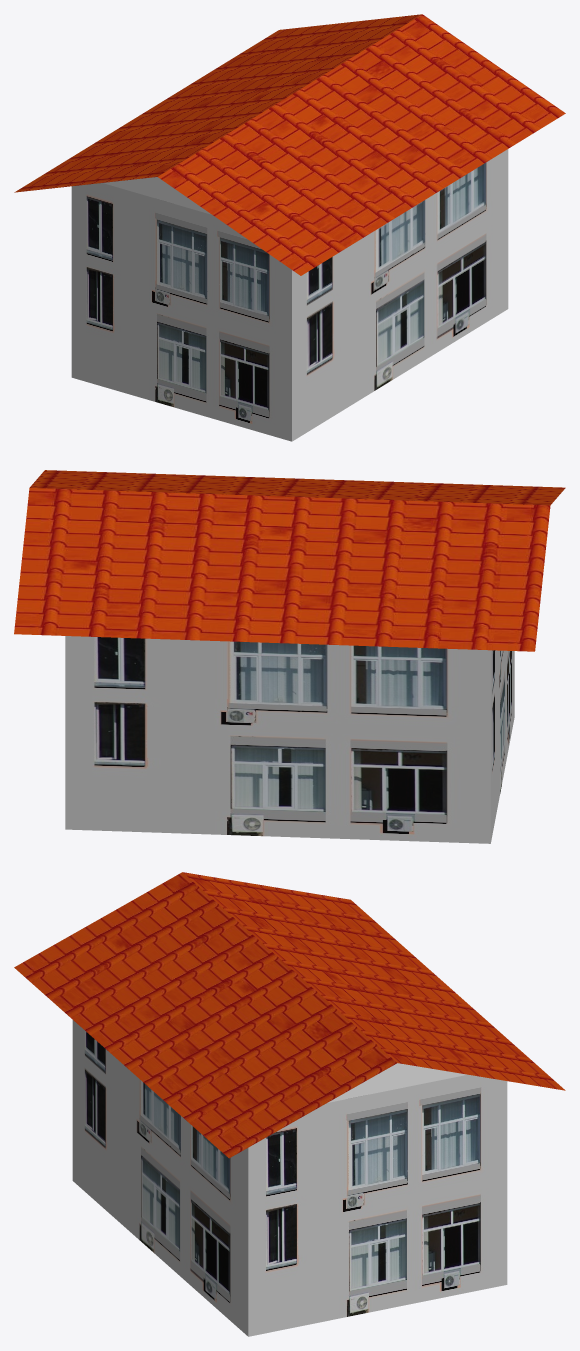
3 renders of one model, top to bottom at view 1: azimuth 30°, elevation 25°; view 2: azimuth 150°, elevation 25°; view 3: azimuth 270°, elevation 25°, orthographic. The views are drawn at different scales.
Parts seen in each view (by area): view 1: CityEngineMaterial_9_m, CityEngineMaterial_12_m, CityEngineMaterial_3_m; view 2: CityEngineMaterial_12_m, CityEngineMaterial_9_m; view 3: CityEngineMaterial_9_m, CityEngineMaterial_12_m, CityEngineMaterial_3_m.
Boxes of the visible parts, box(x1,y1,x2,y2) form: CityEngineMaterial_9_m: box(71, 149, 508, 441); CityEngineMaterial_12_m: box(14, 14, 565, 275); CityEngineMaterial_3_m: box(103, 177, 211, 214); CityEngineMaterial_12_m: box(14, 470, 565, 651); CityEngineMaterial_9_m: box(65, 636, 514, 843); CityEngineMaterial_9_m: box(72, 1020, 507, 1336); CityEngineMaterial_12_m: box(14, 872, 565, 1158); CityEngineMaterial_3_m: box(327, 1063, 466, 1102).
Size of the model in its own units: 13.32 by 6.37 by 12.01.
